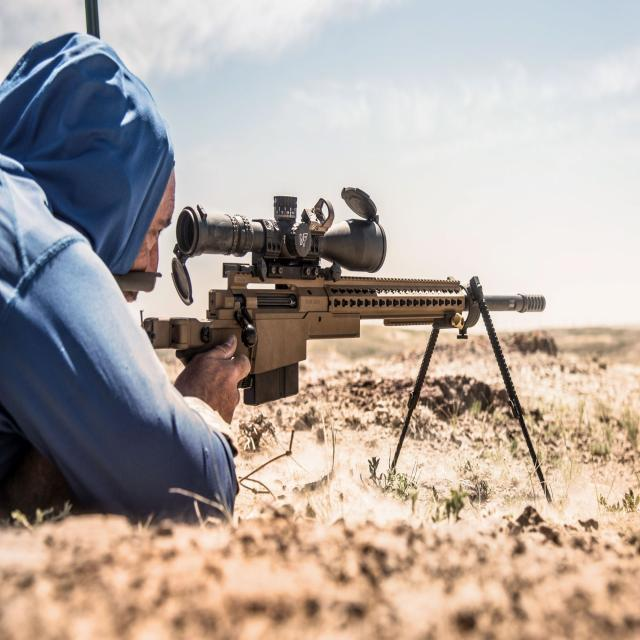scope: (180, 189, 387, 271)
sniper rifle: (164, 208, 577, 488)
